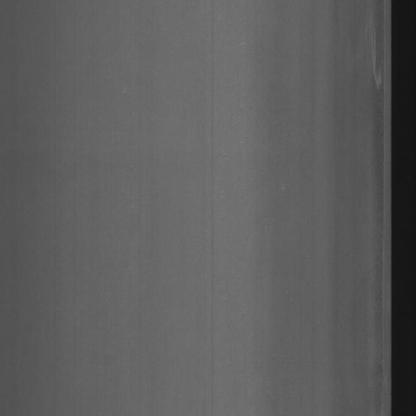silk_spot: (360, 14, 389, 98)
